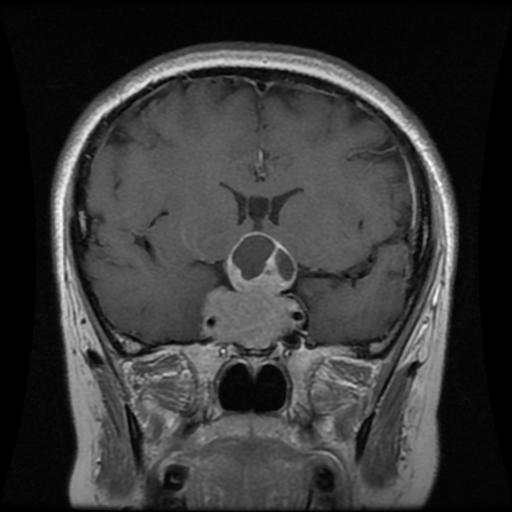Pituirity_tumour: (200, 227, 299, 346)
